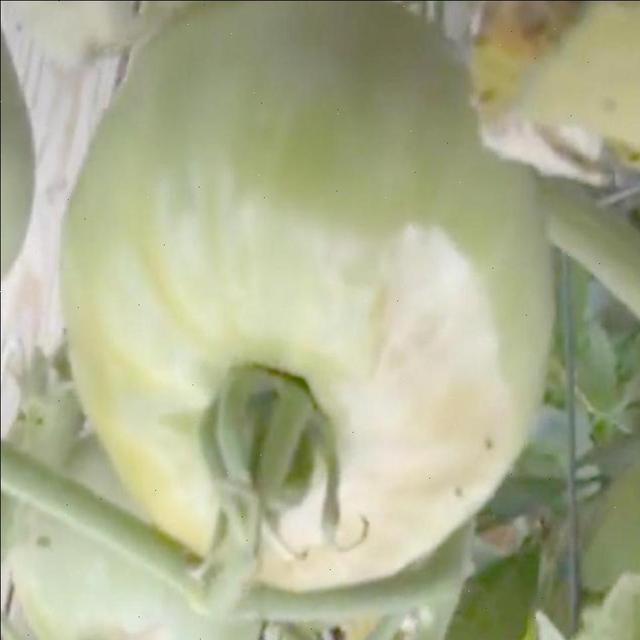Sunscald Fruit: (171, 134, 356, 391)
